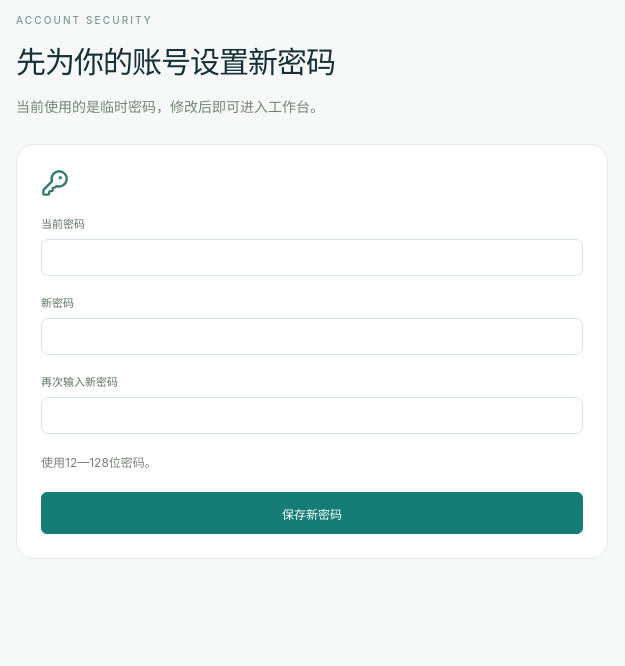
Test case: 临时密码必须修改，新密码两次不一致时不发送
Type "Temporary123!" into the password field labelled "当前密码" at (312, 257), box [41,239,583,276]
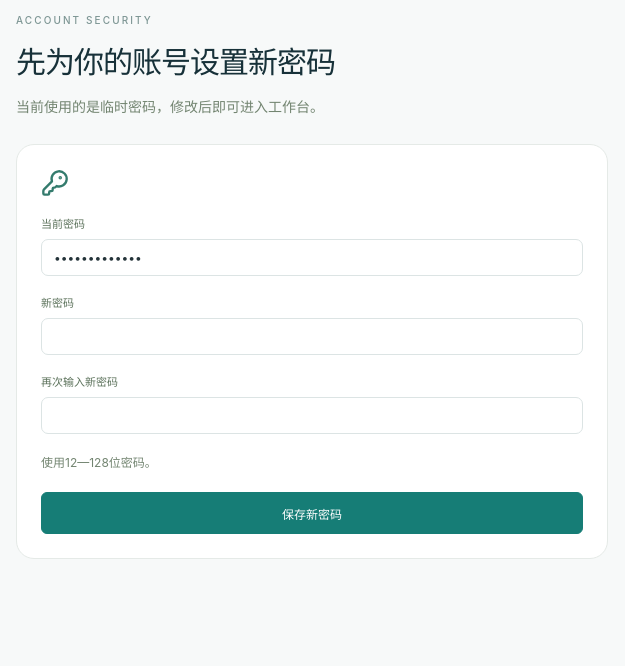
Type "ChangedPassword123!" into the password field labelled "新密码" at (312, 336), box [41,318,583,355]
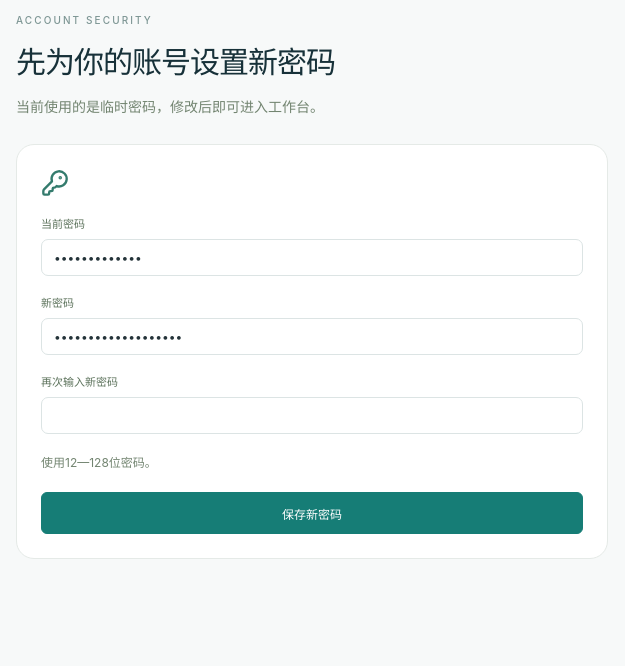
Type "DifferentPassword123!" into the password field labelled "再次输入新密码" at (312, 415), box [41,397,583,434]
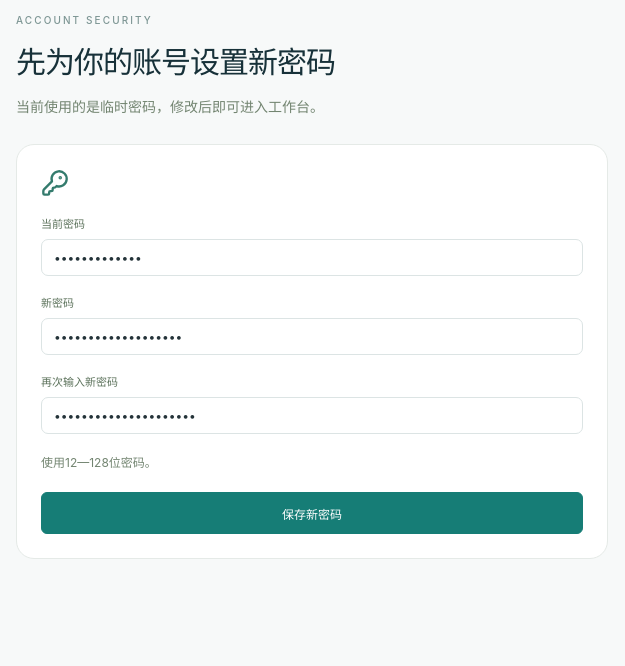
Click the button "保存新密码" at (312, 513), box [41,492,583,534]
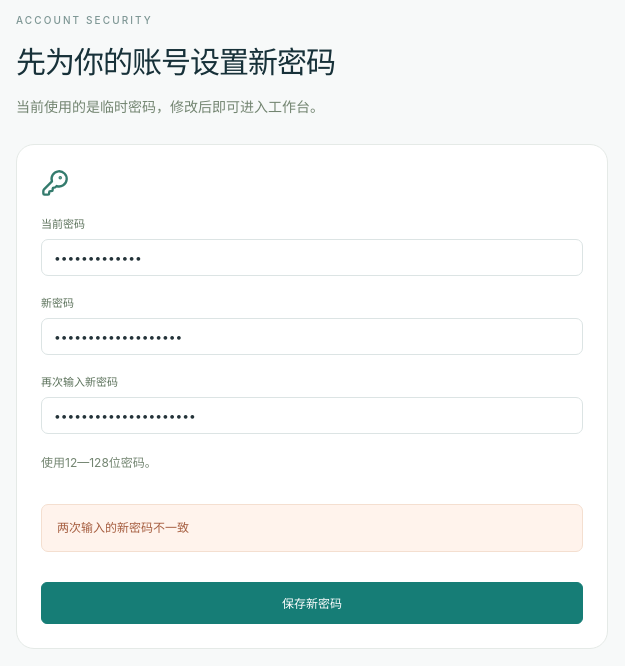
Expected: the message reads "两次输入的新密码不一致", [57,520,189,535]
